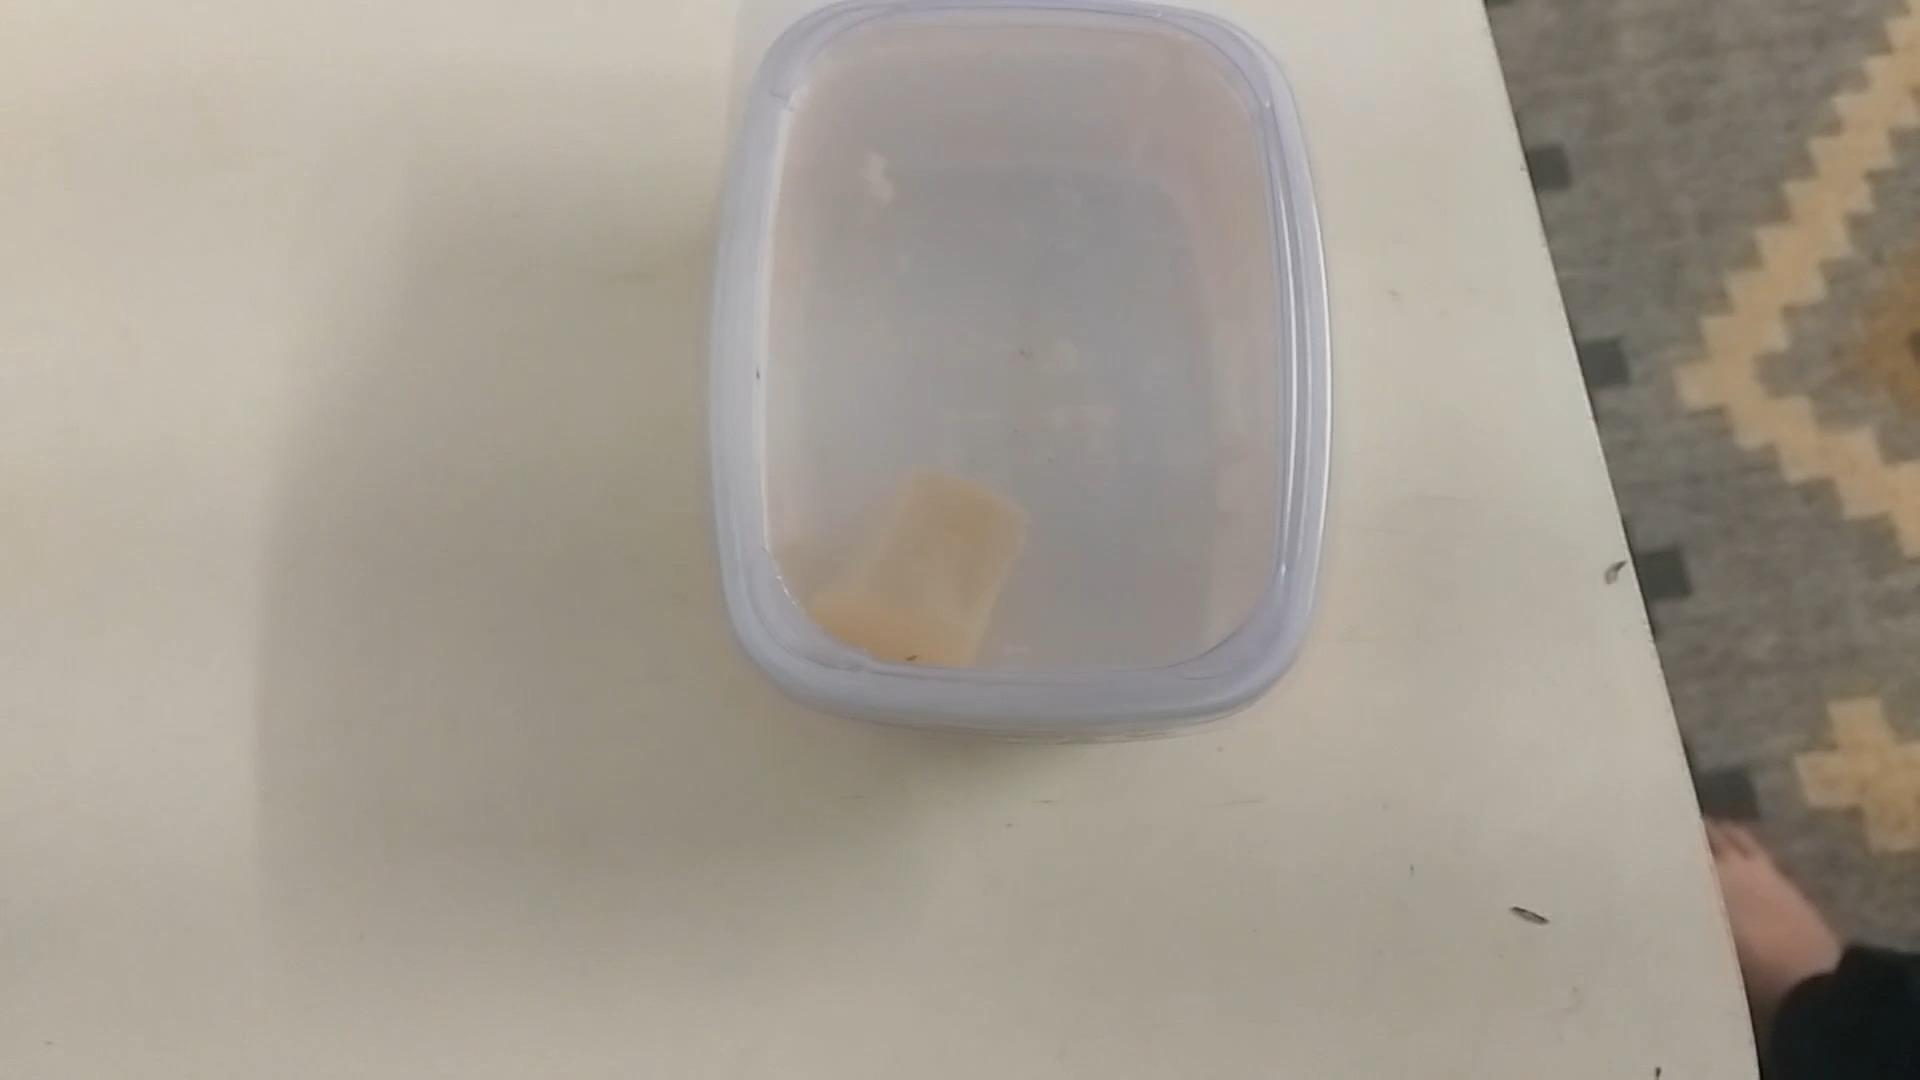butter: (715, 5, 1317, 740)
